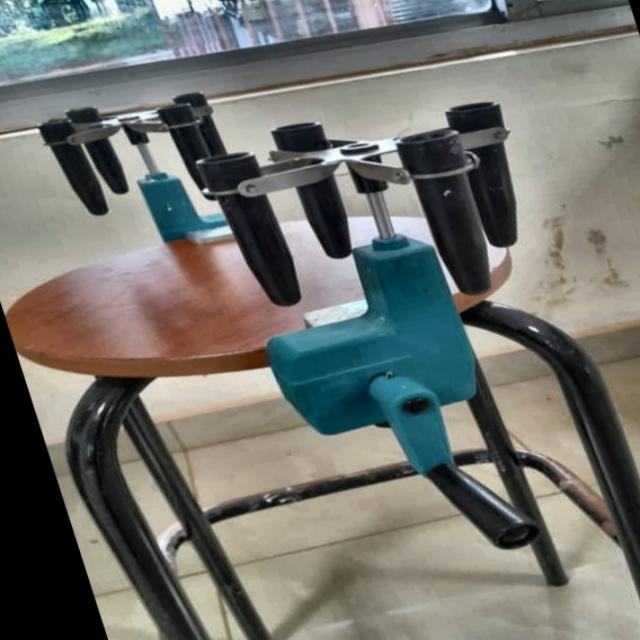Centrifuge: (8, 52, 640, 585)
